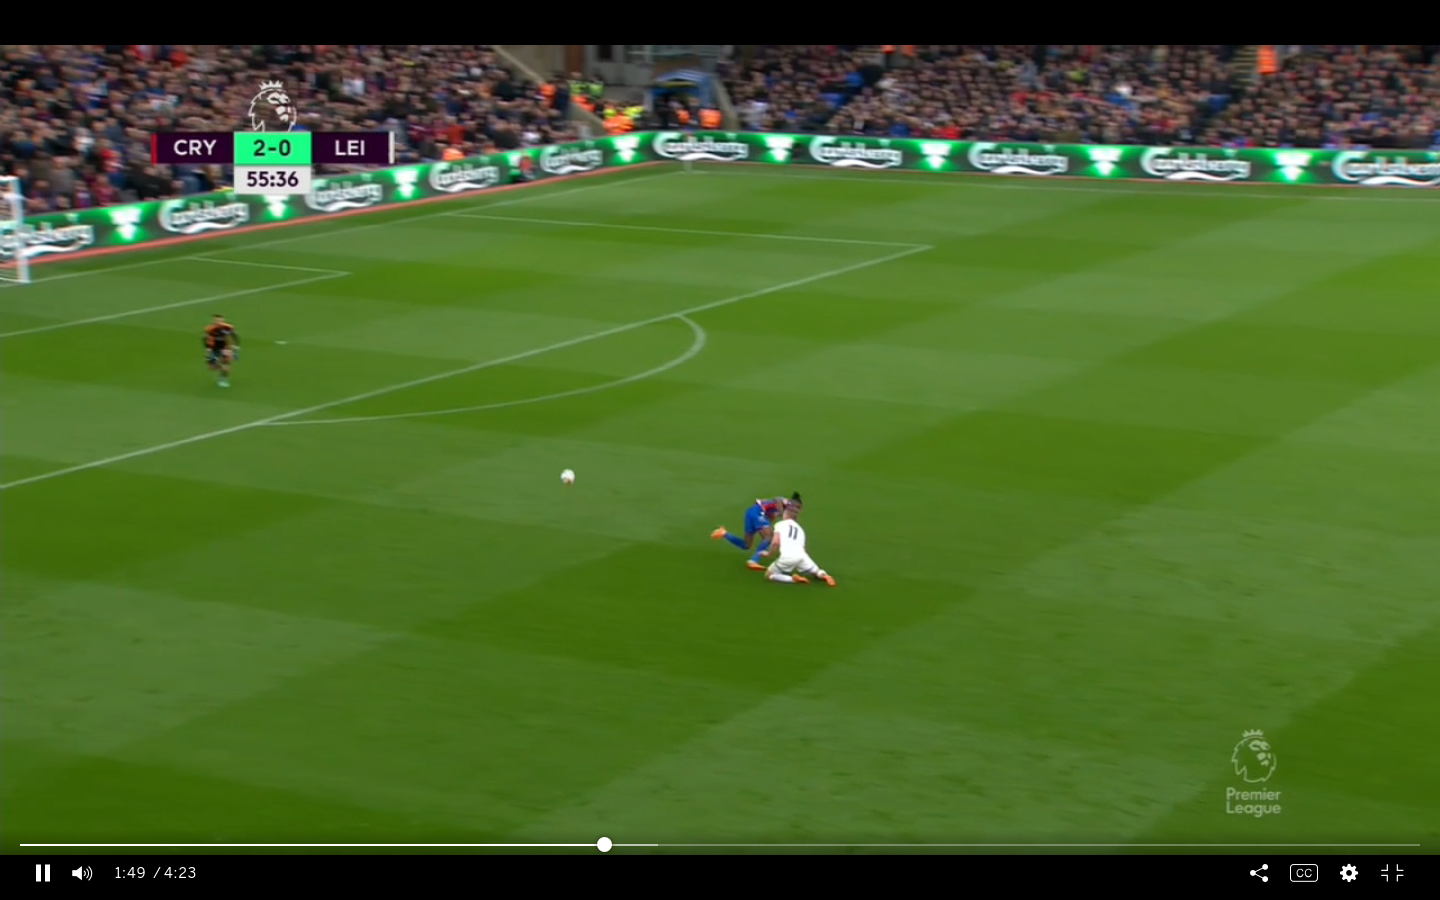soccer player: (705, 492, 802, 574), (772, 512, 824, 585), (199, 311, 244, 392)
soccerball: (556, 463, 582, 489)
